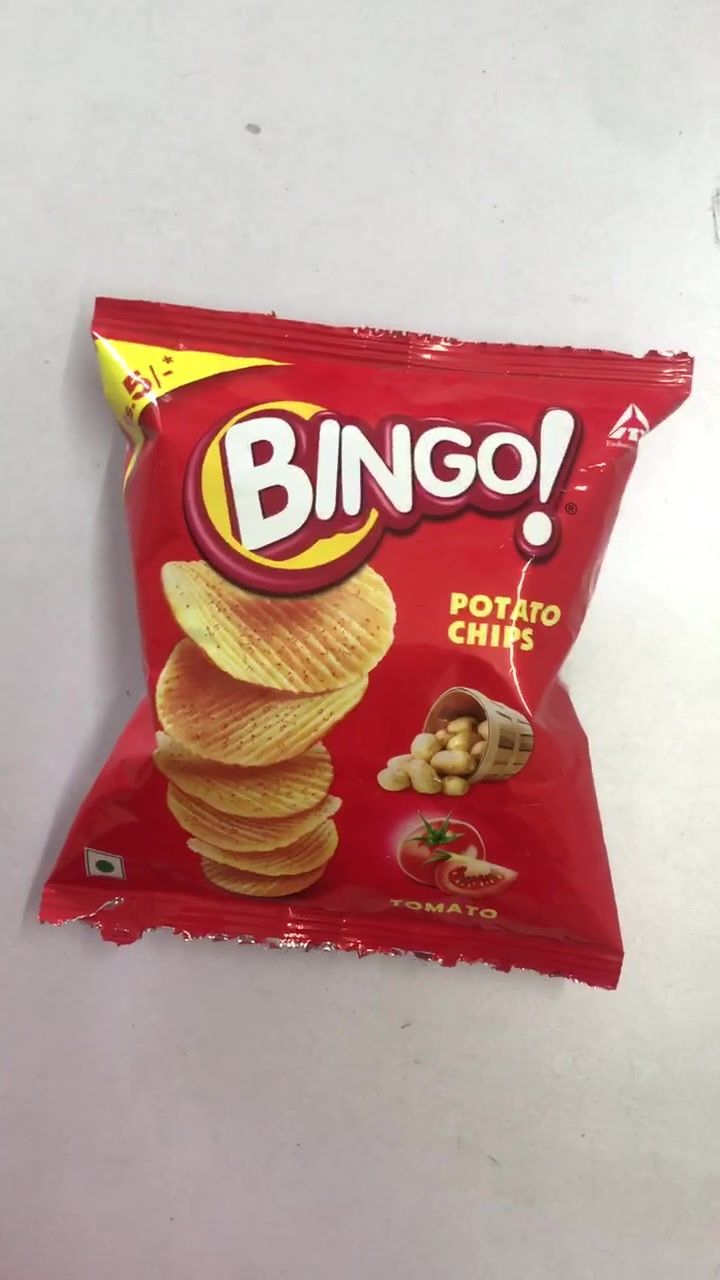Bingo: (58, 302, 694, 988)
